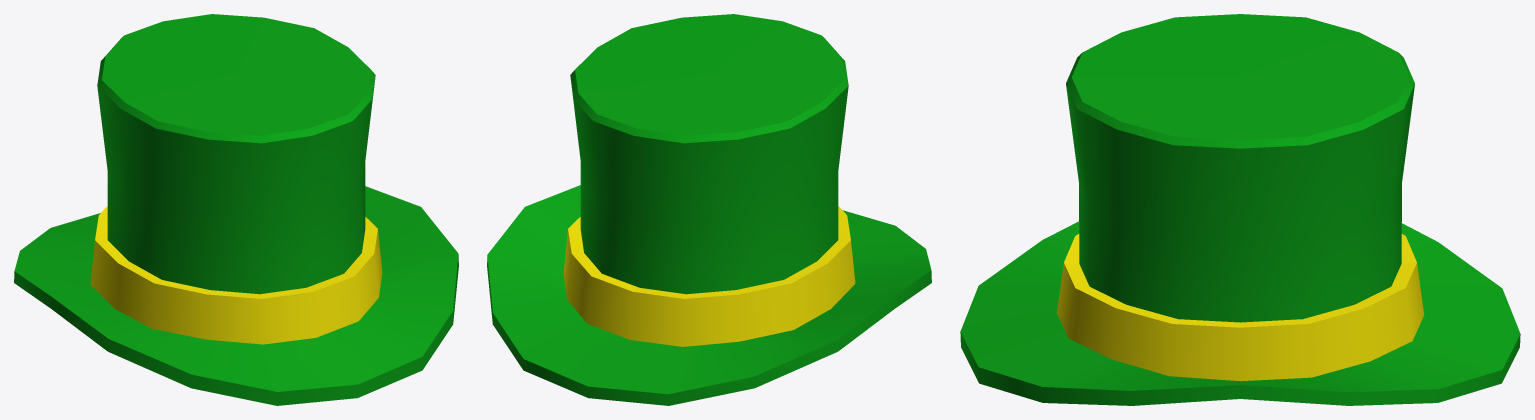
File: top_magic.fbx
The picture shows the model from 3 angles, left to right: view 1: azimuth 30°, elevation 25°; view 2: azimuth 150°, elevation 25°; view 3: azimuth 270°, elevation 25°; orthographic projection. The views are drawn at different scales.
Visible parts, largest first — view 1: top_hat_mesh; view 2: top_hat_mesh; view 3: top_hat_mesh.
Boxes of the visible parts, box(x1,y1,x2,y2) form: top_hat_mesh: box(14, 14, 458, 405); top_hat_mesh: box(487, 14, 931, 405); top_hat_mesh: box(960, 14, 1520, 405).
Size of the model in its own units: 4.02 by 2.44 by 4.56.
